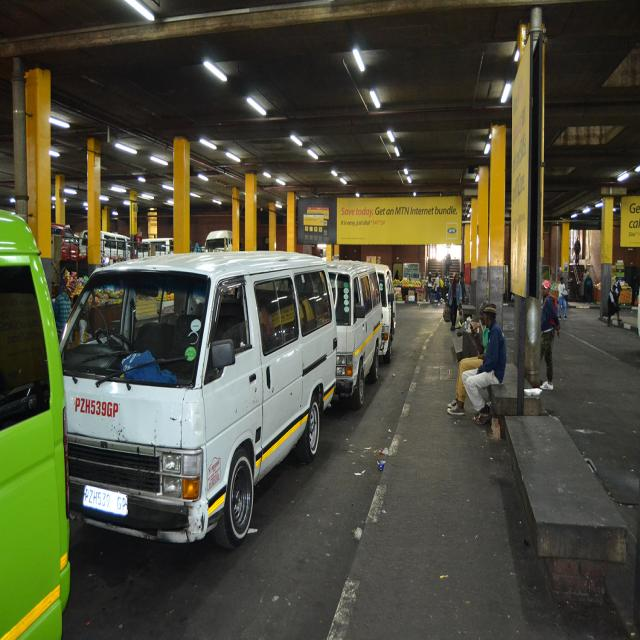MiniBus taxi: (54, 249, 340, 549)
